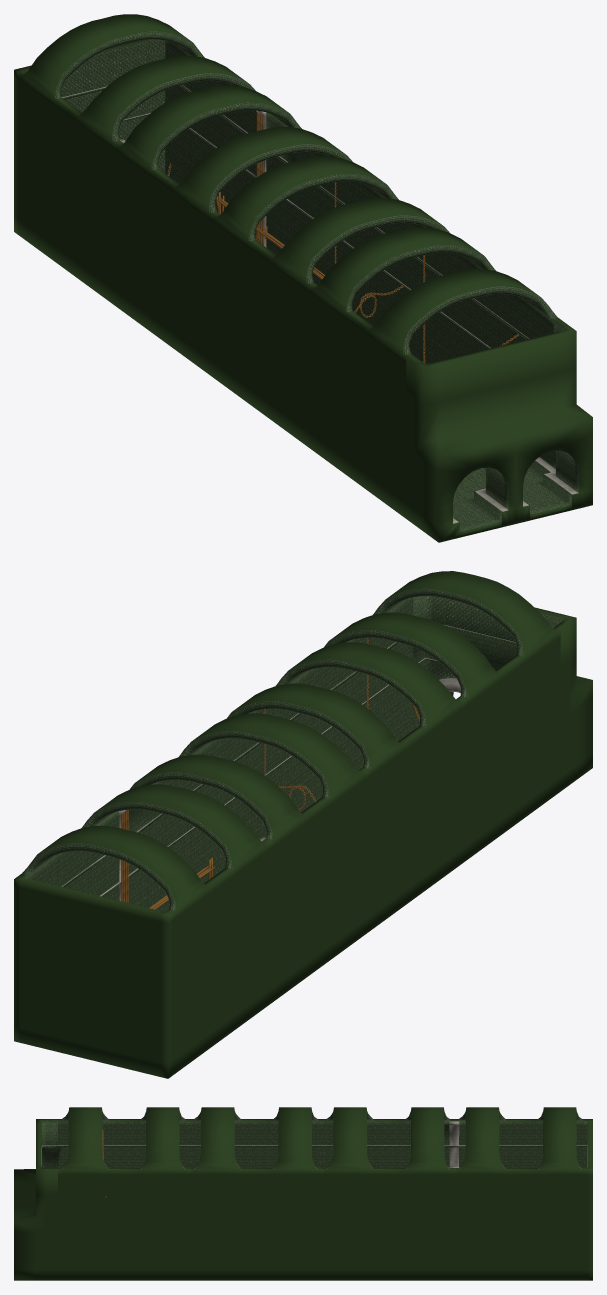
Rendered from SewerModule_BigRoomWithAdapter_1.fbx.
The picture shows the model from 3 angles, top to bottom: view 1: azimuth 30°, elevation 25°; view 2: azimuth 150°, elevation 25°; view 3: azimuth 270°, elevation 25°; orthographic projection. The views are drawn at different scales.
Parts seen in each view (by area): view 1: Big_Start; view 2: Big_Start; view 3: Big_Start.
Boxes of the visible parts, bbox=[...] form: Big_Start: bbox=[14, 14, 592, 542]; Big_Start: bbox=[14, 571, 592, 1078]; Big_Start: bbox=[14, 1107, 592, 1280].
Size of the model in its own units: 2246 by 2778 by 10500.
